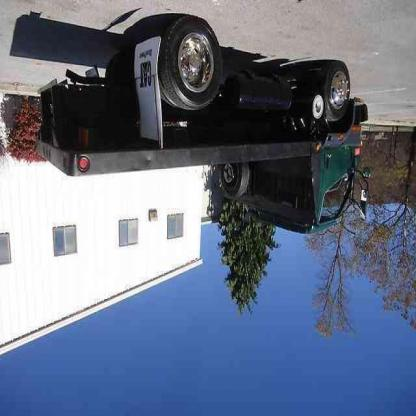truck: (38, 18, 370, 238)
